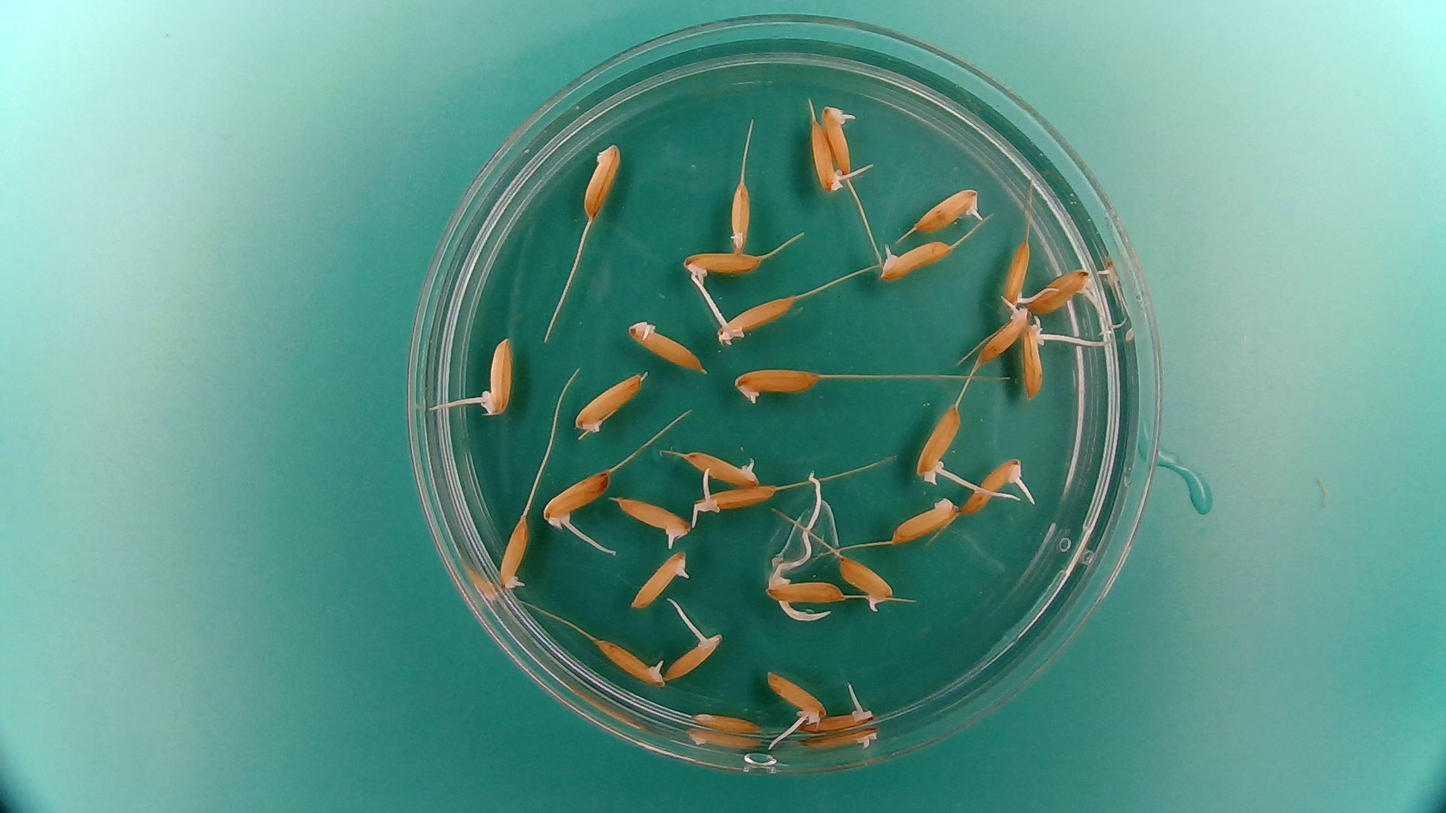no: (569, 367, 648, 439), (889, 494, 961, 544), (580, 142, 621, 226), (724, 175, 758, 252), (688, 712, 766, 742)
yes: (624, 315, 709, 376), (540, 467, 612, 533), (711, 292, 798, 344), (728, 361, 825, 406), (913, 400, 962, 484), (1026, 265, 1105, 317), (611, 495, 691, 546), (909, 183, 982, 237), (681, 246, 767, 291), (765, 668, 827, 726), (966, 458, 1029, 515), (593, 638, 666, 687), (629, 551, 690, 609), (877, 237, 955, 282), (837, 553, 895, 613), (477, 332, 517, 418), (689, 481, 779, 519), (664, 624, 723, 681), (975, 303, 1031, 363), (678, 446, 761, 486), (757, 574, 847, 609), (819, 102, 858, 181), (807, 117, 846, 196), (1020, 319, 1054, 399), (497, 514, 531, 592), (799, 699, 874, 733), (999, 233, 1033, 306)
